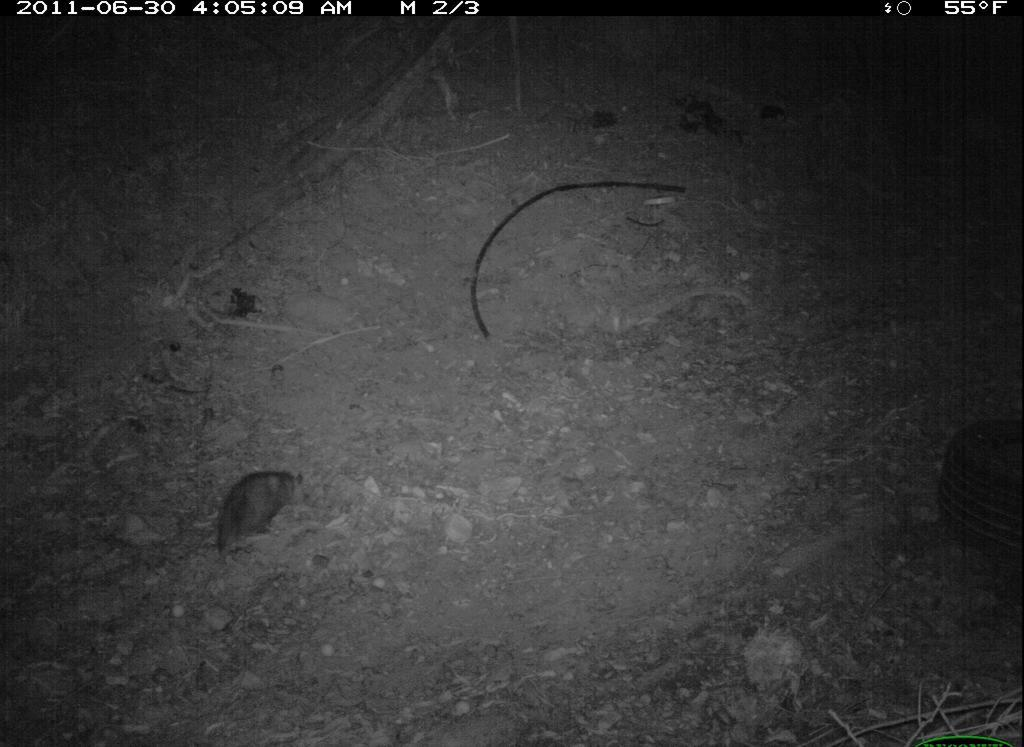opossum: (208, 452, 310, 575)
